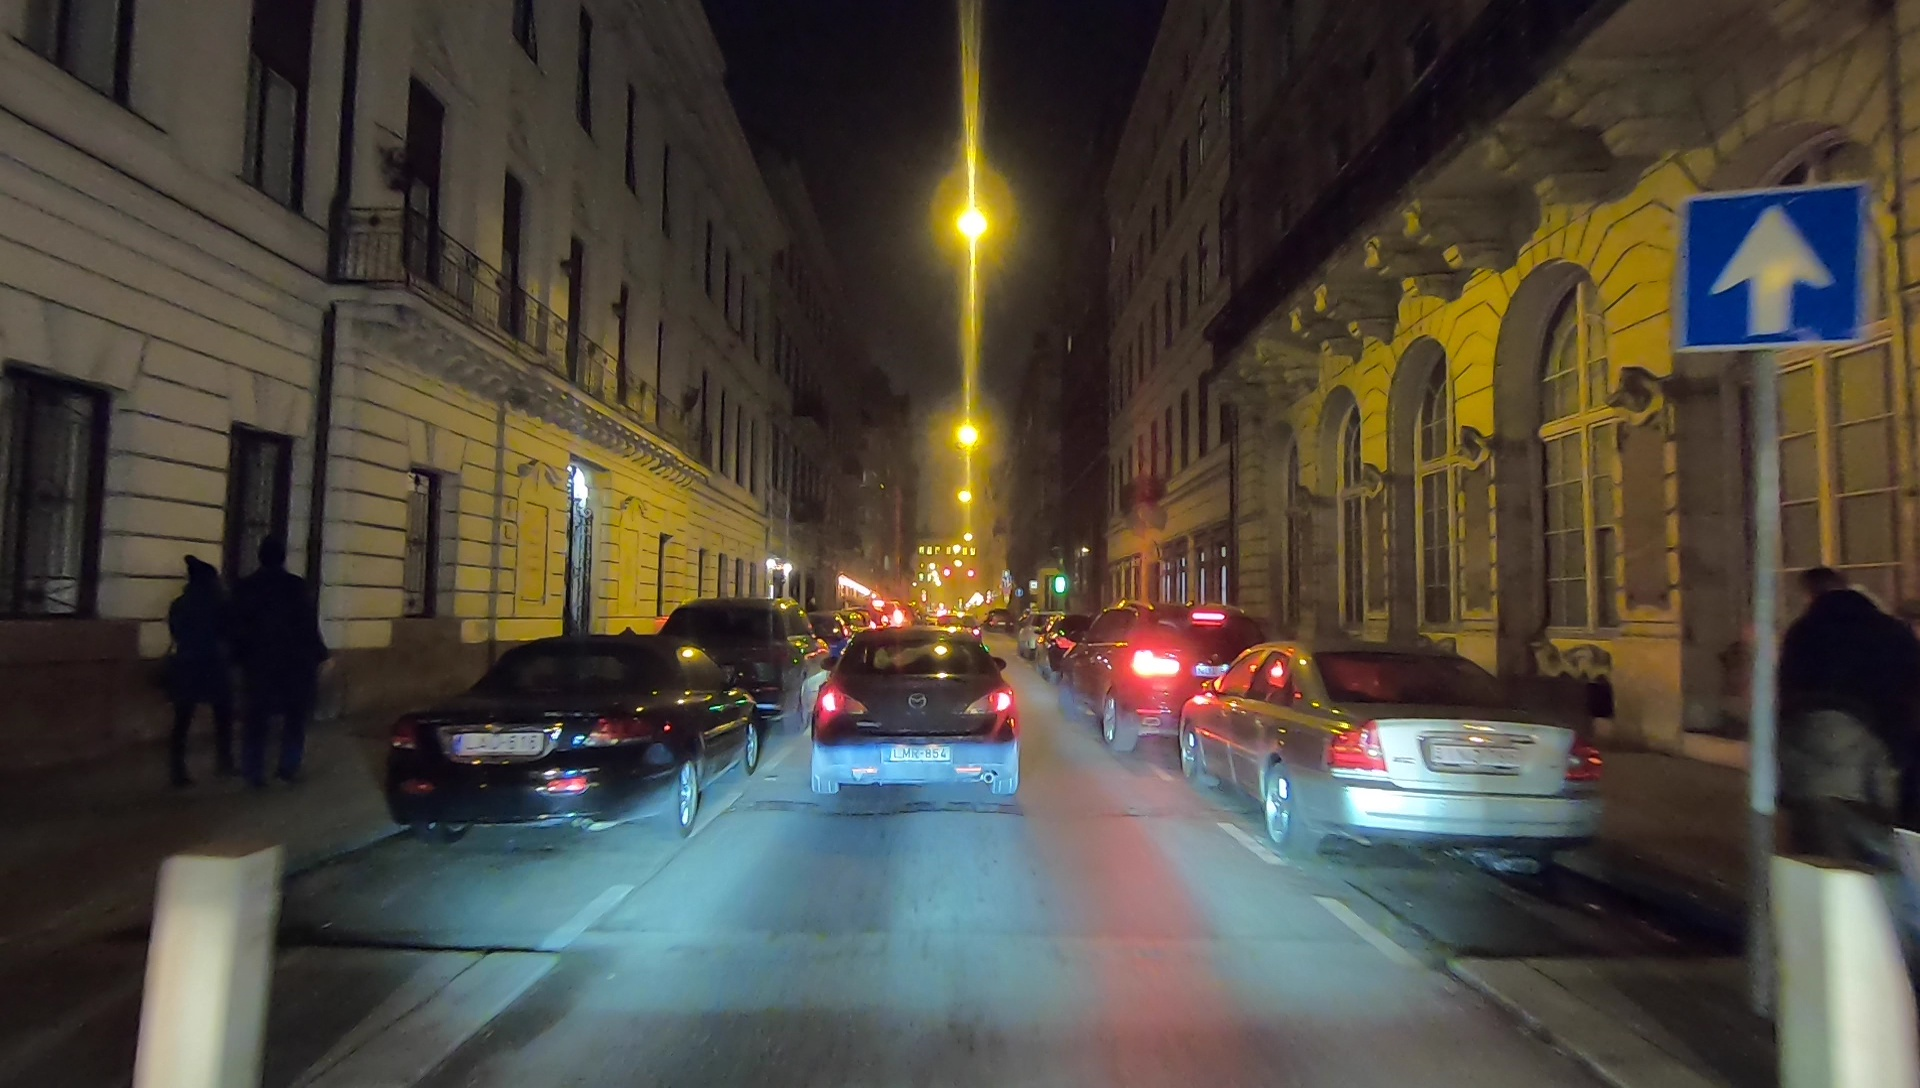person: (1776, 574, 1906, 882), (226, 541, 325, 787), (158, 556, 232, 784)
